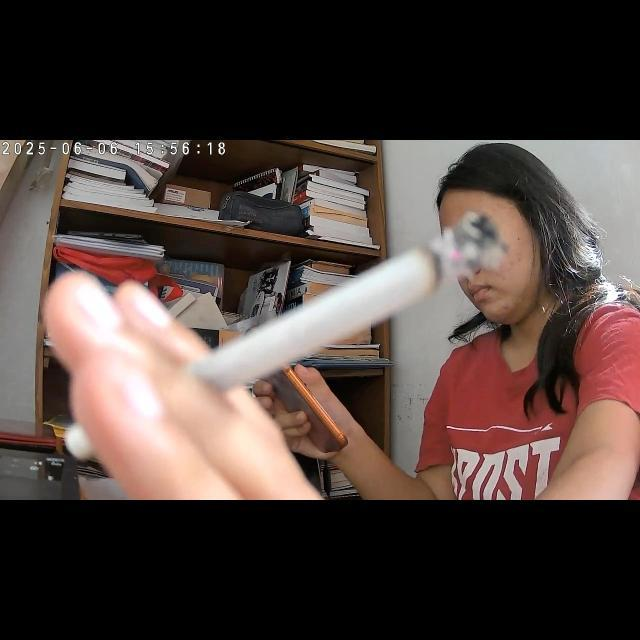rokok: (56, 208, 512, 462)
